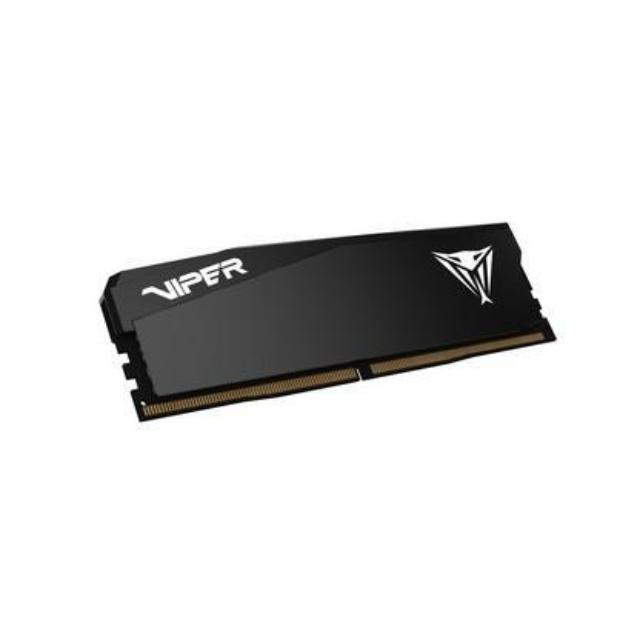RAM: (99, 220, 562, 426)
